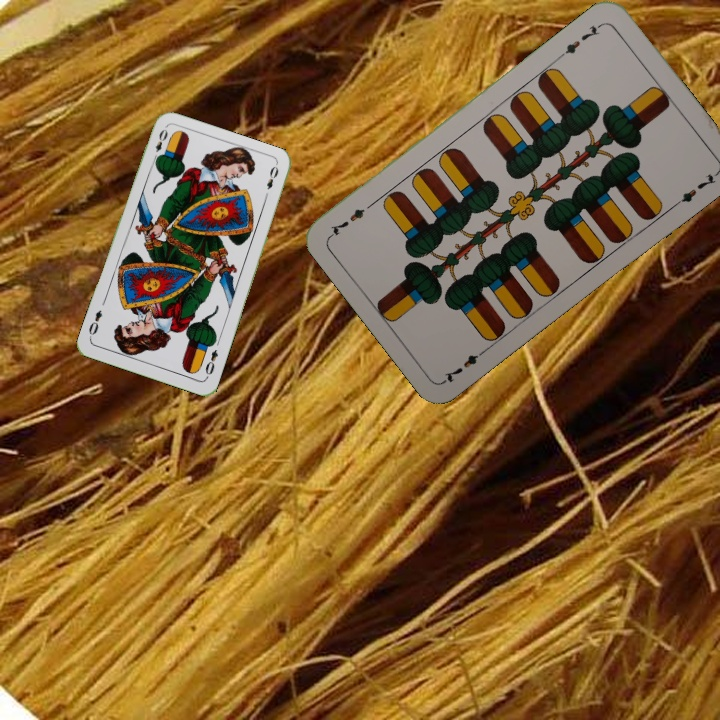E7: (440, 344, 491, 386), (555, 19, 606, 60)
EO: (149, 125, 170, 164), (201, 345, 221, 381)
